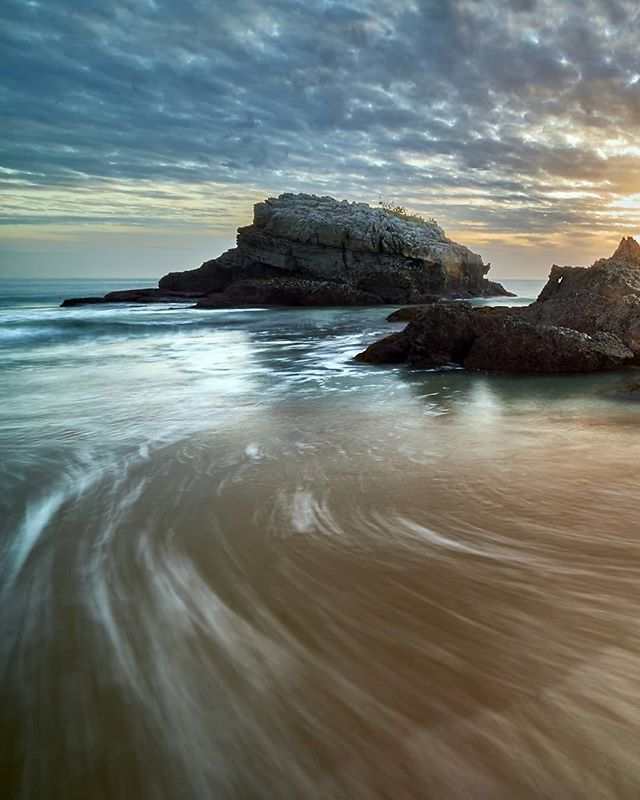mountain: (133, 161, 498, 295)
rocks: (405, 247, 640, 392)
sea: (14, 297, 640, 786)
sky: (1, 1, 632, 257)
